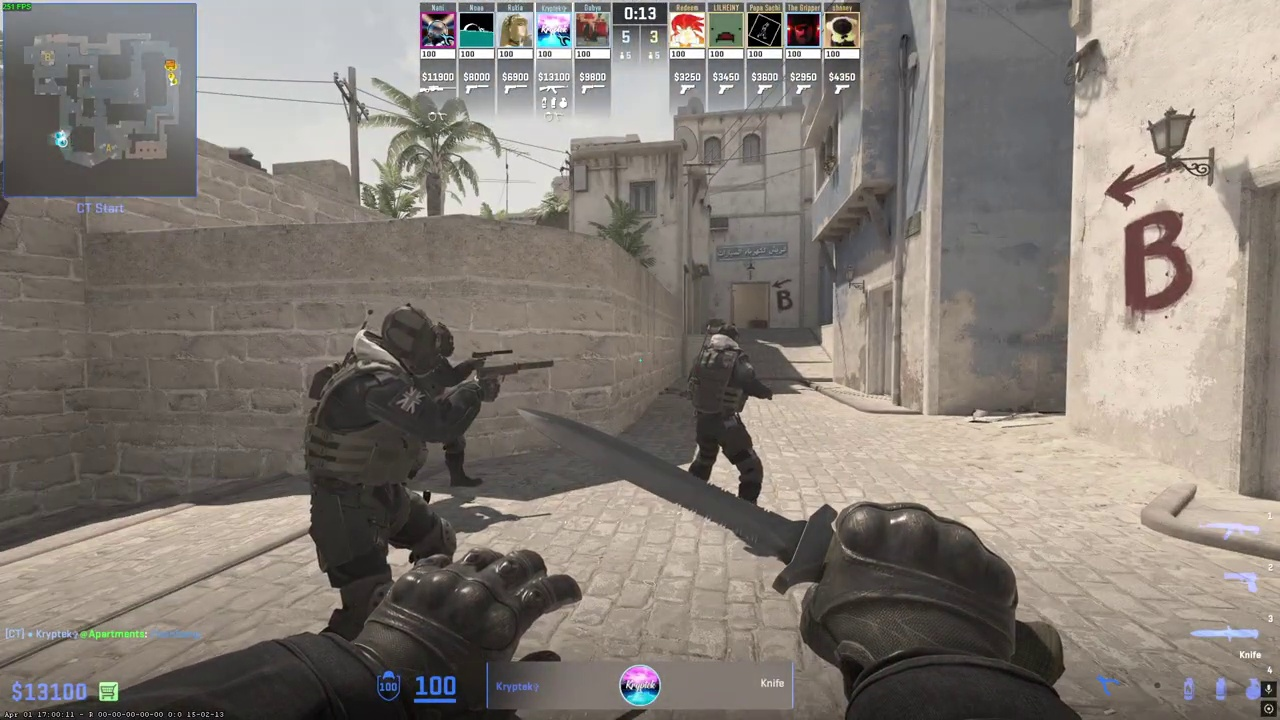CT: (303, 302, 476, 638), (686, 322, 768, 504)
